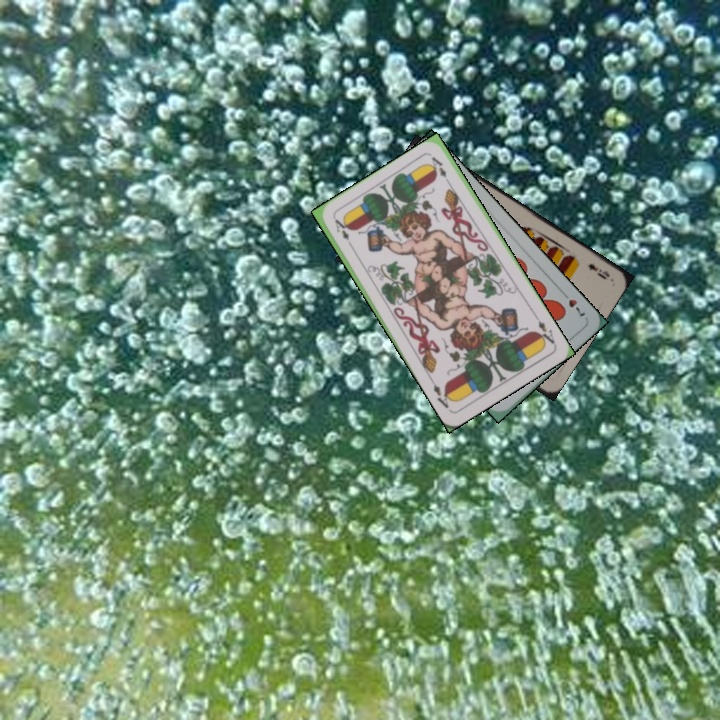E9: (584, 259, 613, 282)
EA: (530, 311, 558, 348), (331, 215, 356, 251)
H7: (557, 287, 588, 320)
